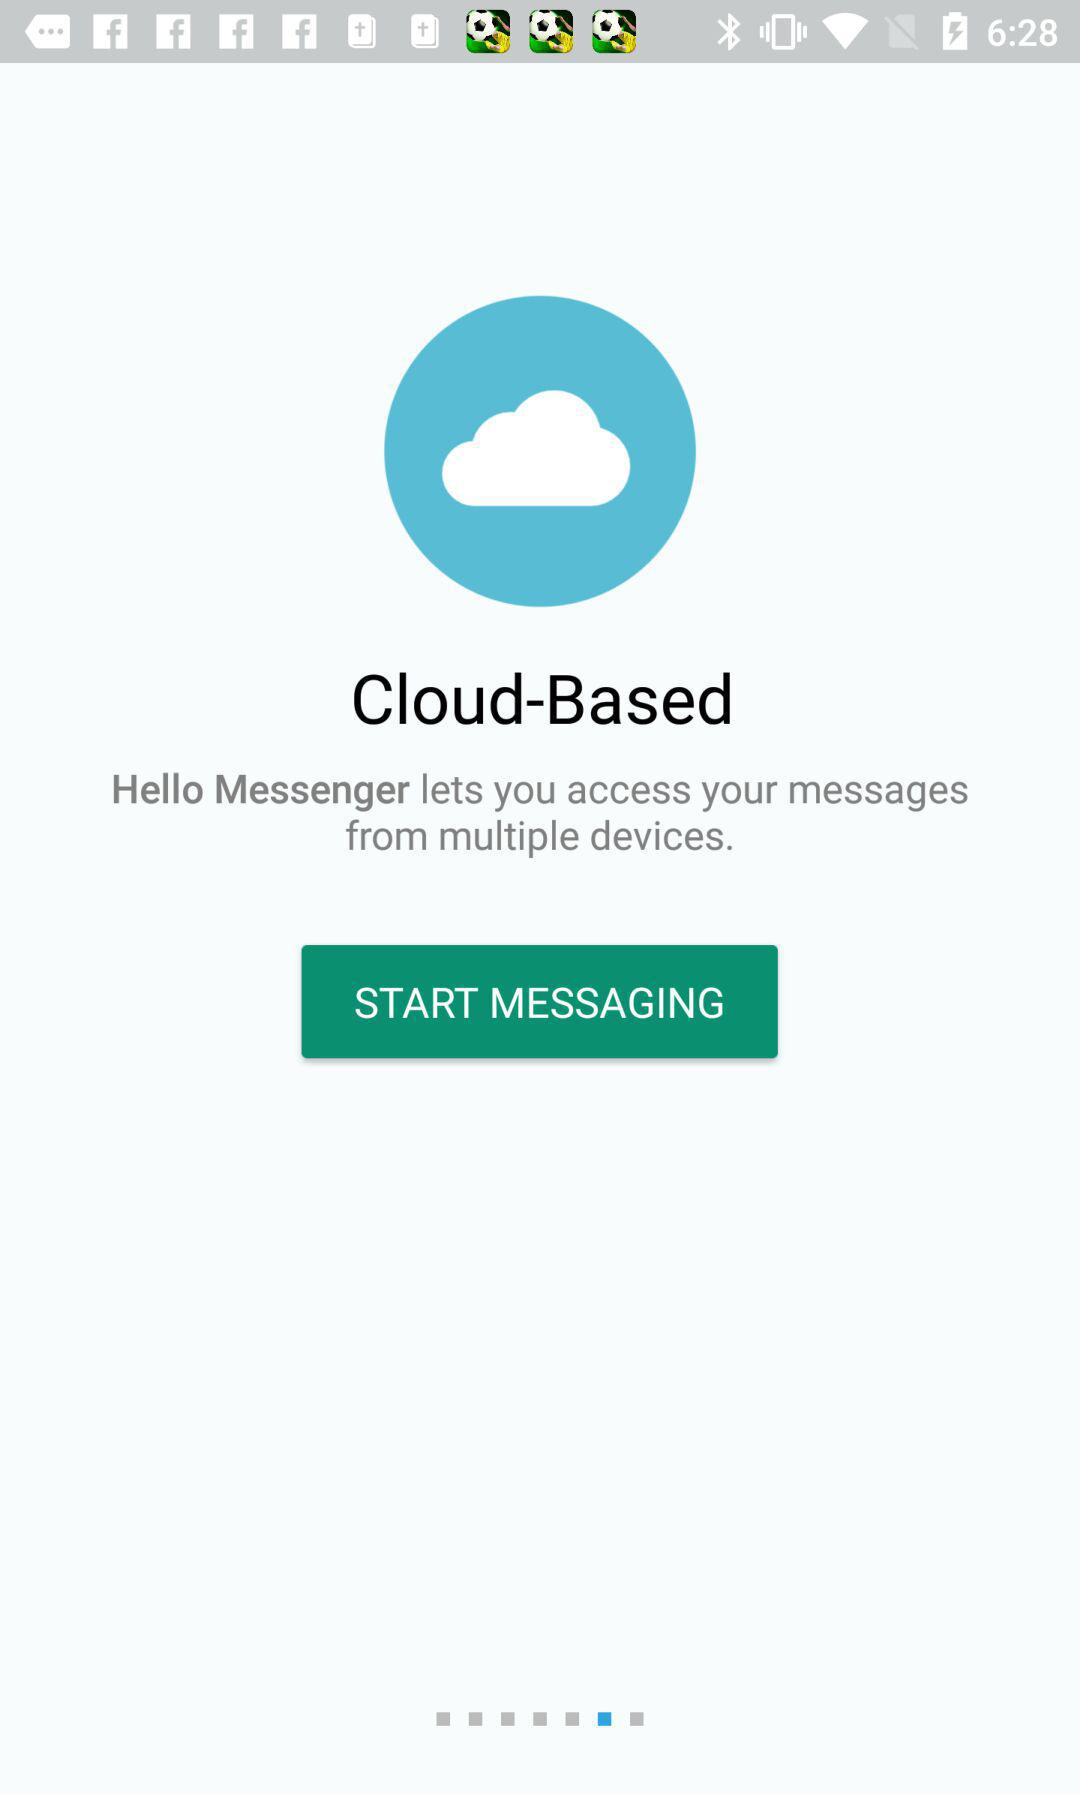Image: (383, 296, 697, 609)
PageIndicator: (436, 1711, 644, 1727)
Text: (114, 771, 969, 859), (354, 671, 732, 727)
TextButton: (301, 944, 778, 1058)
UpperTaskBar: (1, 1, 1080, 64)
